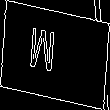M_S: (40, 27, 70, 83)
